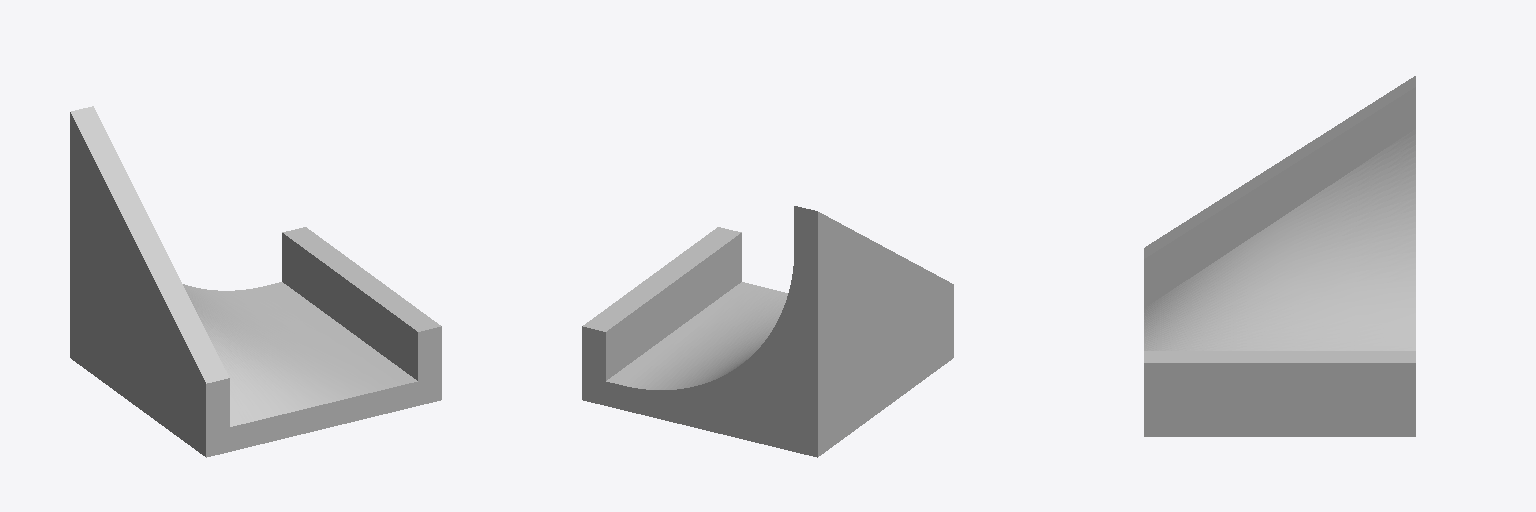
File: BankedTransitionLeft.obj
The picture shows the model from 3 angles: view 1: azimuth 30°, elevation 25°; view 2: azimuth 150°, elevation 25°; view 3: azimuth 270°, elevation 25°; orthographic projection.
Parts seen in each view (by area): view 1: BankedTransitionLeft; view 2: BankedTransitionLeft; view 3: BankedTransitionLeft.
Part boxes in pixels (x1,y1,x2,y2): BankedTransitionLeft: (70, 106, 441, 457); BankedTransitionLeft: (582, 206, 953, 457); BankedTransitionLeft: (1144, 76, 1415, 436).
Size of the model in its own units: 2 by 2 by 2.